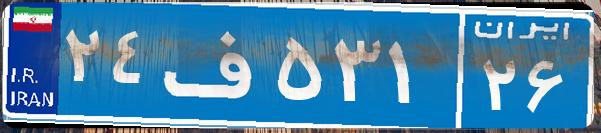1: (385, 28, 445, 110)
2: (57, 26, 110, 107), (475, 38, 525, 113)
3: (330, 28, 385, 110)
4: (110, 28, 158, 105)
5: (273, 28, 330, 110)
6: (525, 38, 570, 115)
ف: (158, 15, 273, 115)
